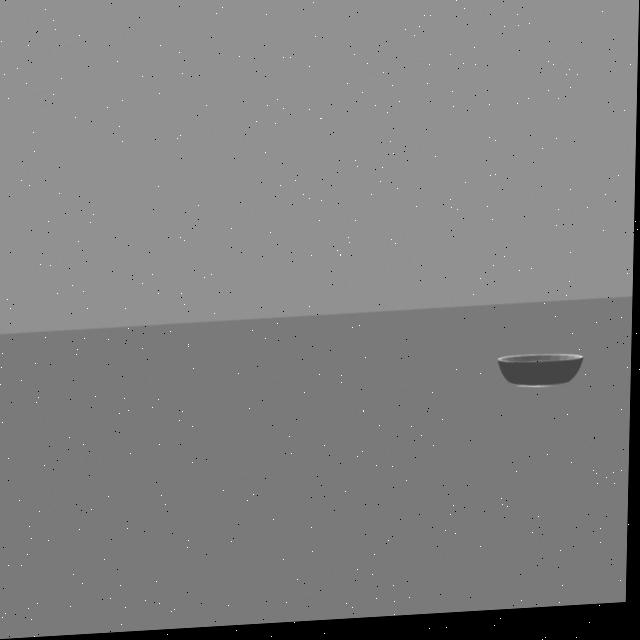bowl: (487, 337, 596, 415)
